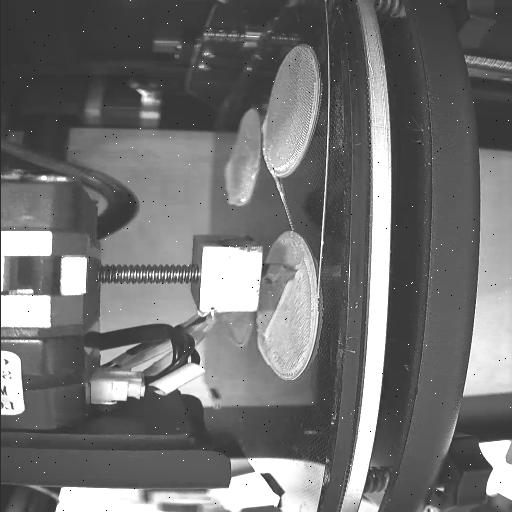over_extrusion: (261, 280, 293, 340), (222, 160, 242, 210), (259, 114, 270, 136), (294, 264, 304, 278)
